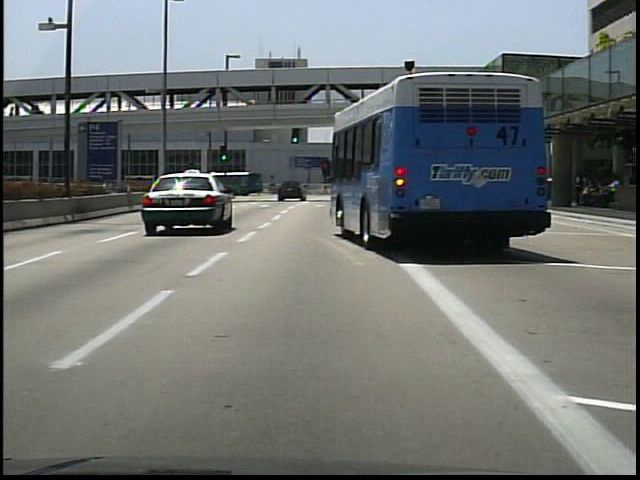person: (570, 169, 585, 208)
